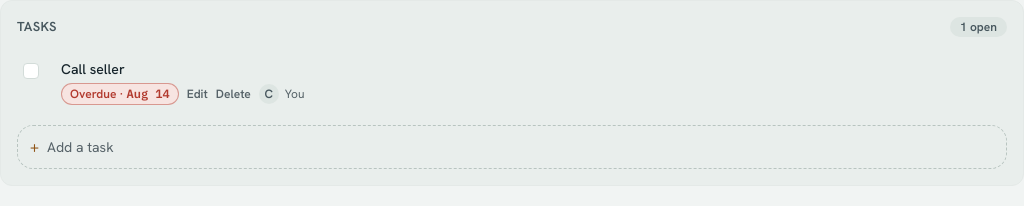
TSK-05: delete is a two-click inline confirm (pr F-1) › TSK-05: delete removes the row
The image size is (1024, 206).
expect the text "Call seller" is shown: met, box [61,60,125,78]
// First click only reveals the inline confirm — no DELETE yet.
Click the button named "delete \"call seller\"": click(233, 94) [216,86,251,102]
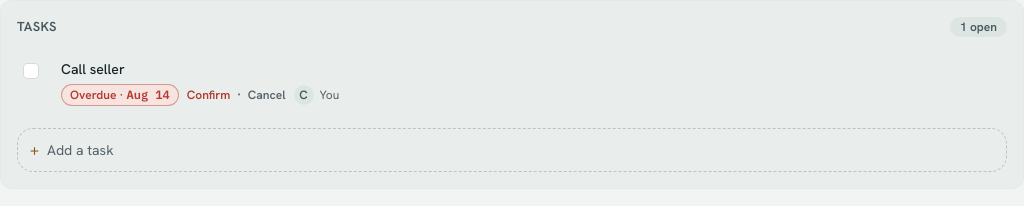
// Second click (Confirm) sends the DELETE and the row disappears.
Click the button named "confirm delete \"call seller\"": click(209, 95) [187,87,230,103]
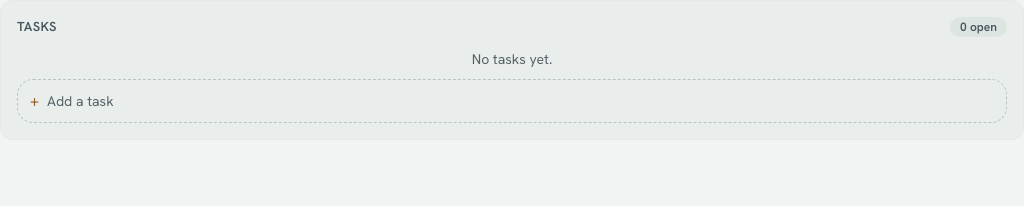
expect the text "Call seller" is gone: met
